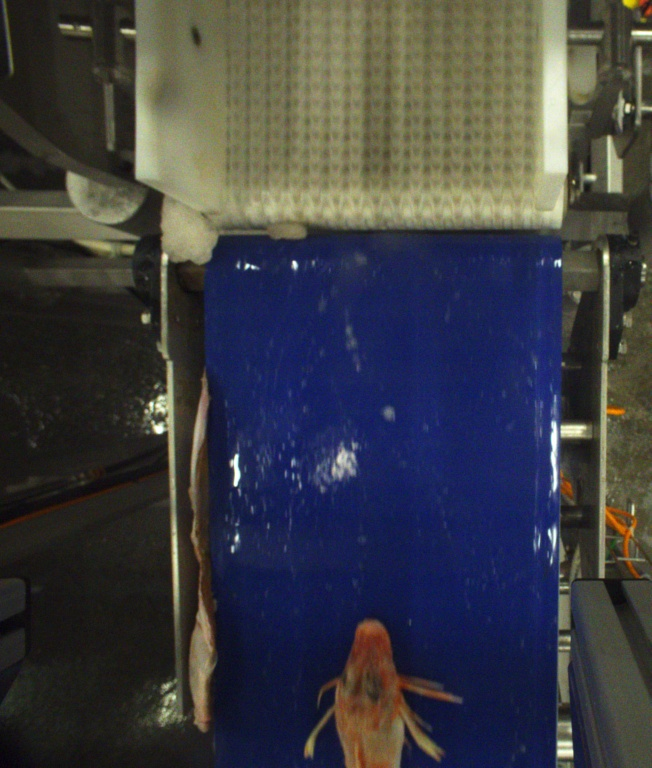GUU: (302, 613, 463, 768)
